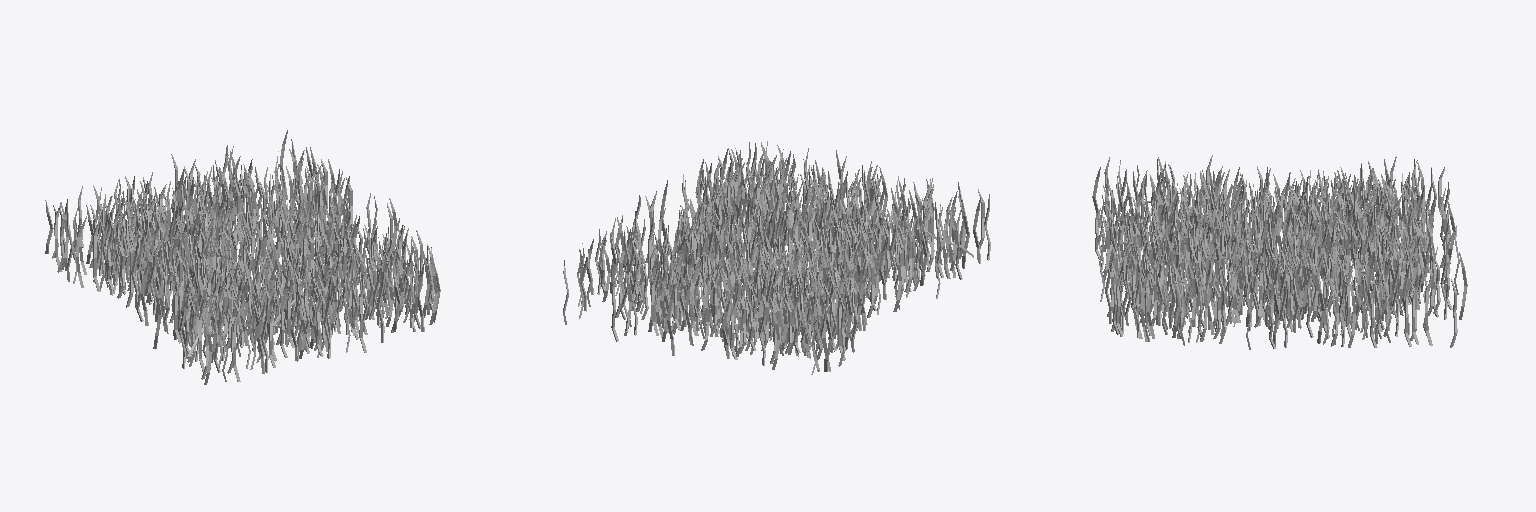
The model's file is pasto.obj.
3 views of the same model, side by side, from view 1: azimuth 30°, elevation 25°; view 2: azimuth 150°, elevation 25°; view 3: azimuth 270°, elevation 25° (orthographic).
Parts seen in each view (by area): view 1: polySurface1368; view 2: polySurface1368; view 3: polySurface1368.
Part boxes in pixels (bbox=[...]): polySurface1368: bbox=[45, 130, 440, 384]; polySurface1368: bbox=[563, 141, 990, 374]; polySurface1368: bbox=[1092, 155, 1467, 349].
Size of the model in its own units: 0.9876 by 0.2487 by 1.17.